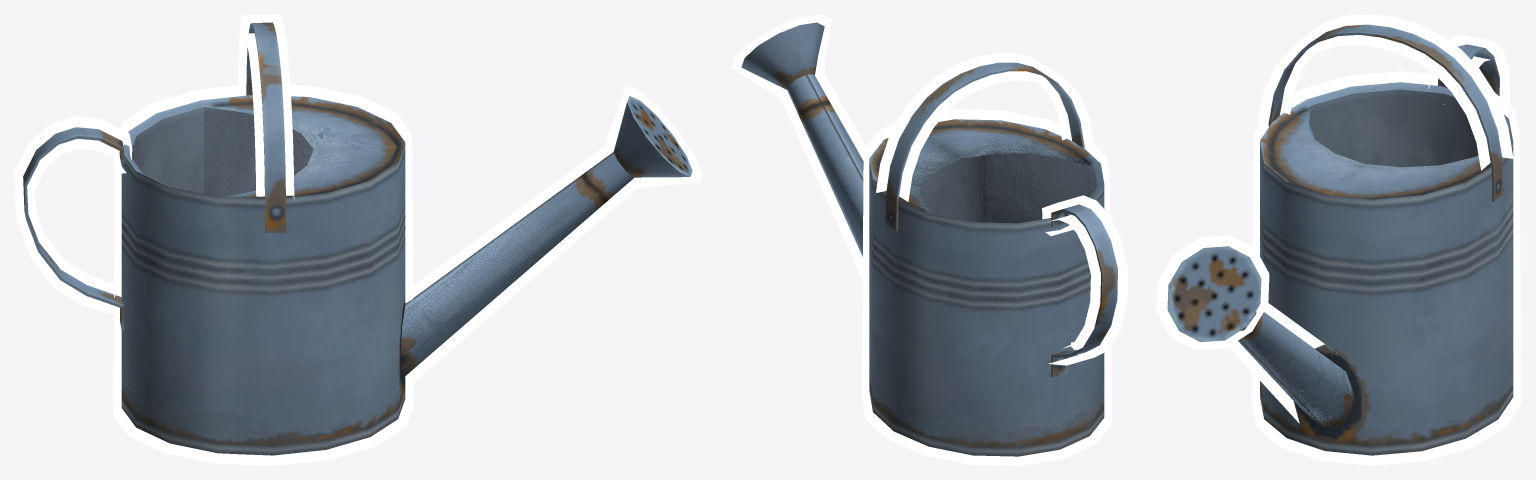
Rendered from wateringCan.gltf.
3 renders of one model, left to right at view 1: azimuth 30°, elevation 25°; view 2: azimuth 150°, elevation 25°; view 3: azimuth 270°, elevation 25°, orthographic. The views are drawn at different scales.
Visible parts, largest first — view 1: wateringCan, wateringCan.001; view 2: wateringCan, wateringCan.001; view 3: wateringCan, wateringCan.001.
Part boxes in pixels (<box>): wateringCan: <box>23,22,692,455</box>; wateringCan.001: <box>14,14,702,465</box>; wateringCan: <box>741,22,1117,456</box>; wateringCan.001: <box>731,14,1127,465</box>; wateringCan: <box>1167,24,1513,455</box>; wateringCan.001: <box>1156,14,1521,465</box>.
Bounding box in the file's own units: 0.6978 × 0.4609 × 0.4002.
2 materials, 1 textured.
